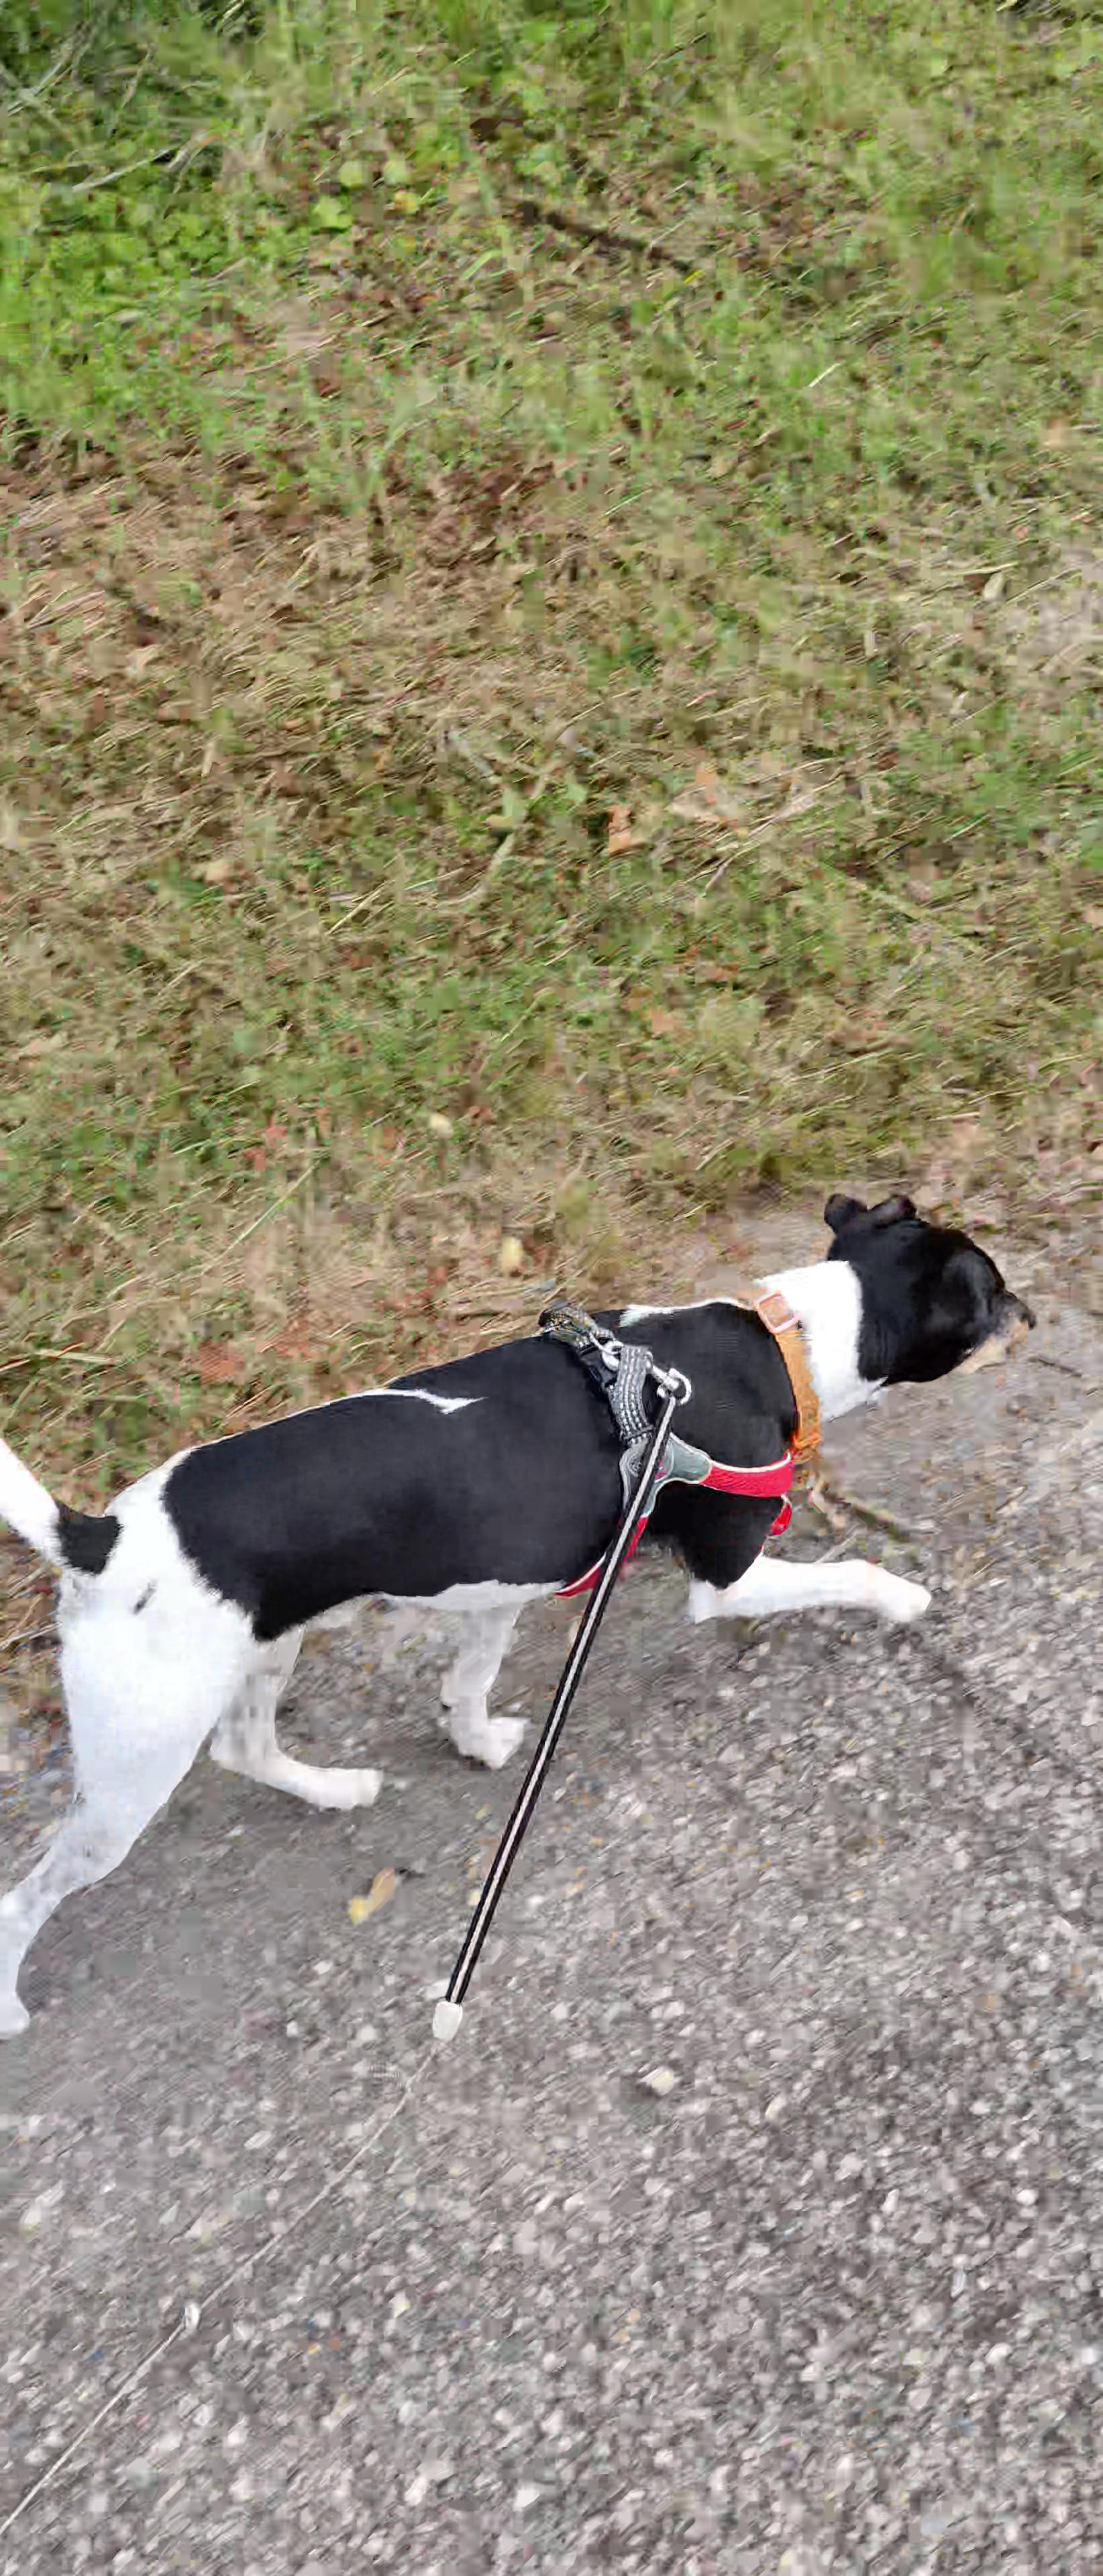Dog: (0, 1180, 1044, 2045)
